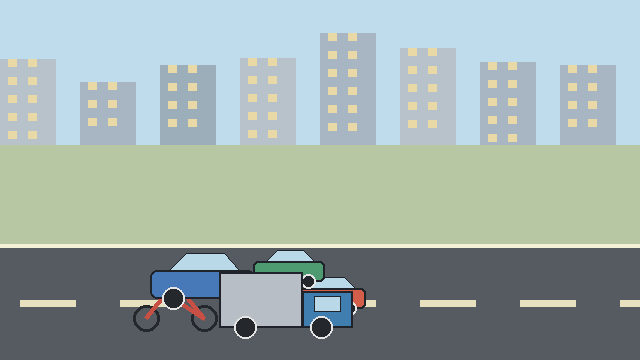car: (150, 253, 254, 309), (294, 277, 365, 315), (253, 250, 324, 288)
motorcycle: (133, 279, 217, 331)
truck: (219, 272, 352, 338)
